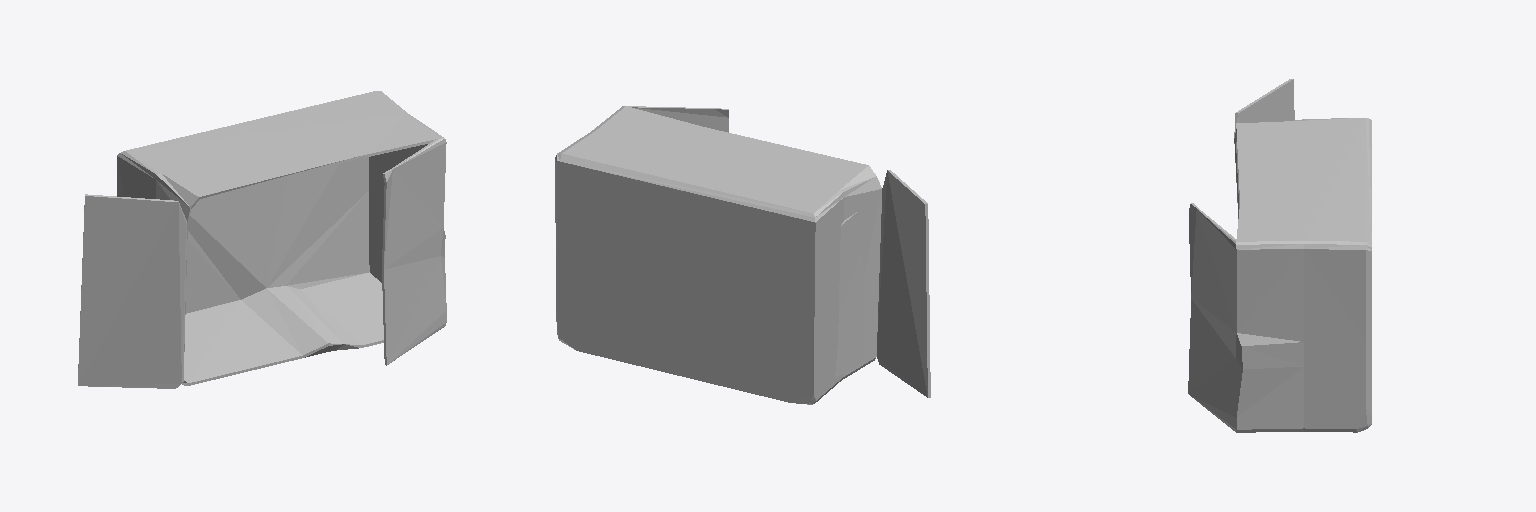
The model's file is box_open.obj.
3 renders of one model, left to right at view 1: azimuth 30°, elevation 25°; view 2: azimuth 150°, elevation 25°; view 3: azimuth 270°, elevation 25°, orthographic.
Parts seen in each view (by area): view 1: box_open; view 2: box_open; view 3: box_open.
Boxes of the visible parts, <box> form: box_open: <box>78,91,446,388</box>; box_open: <box>555,106,930,404</box>; box_open: <box>1188,79,1371,432</box>.
Size of the model in its own units: 46.28 by 25.1 by 21.61.